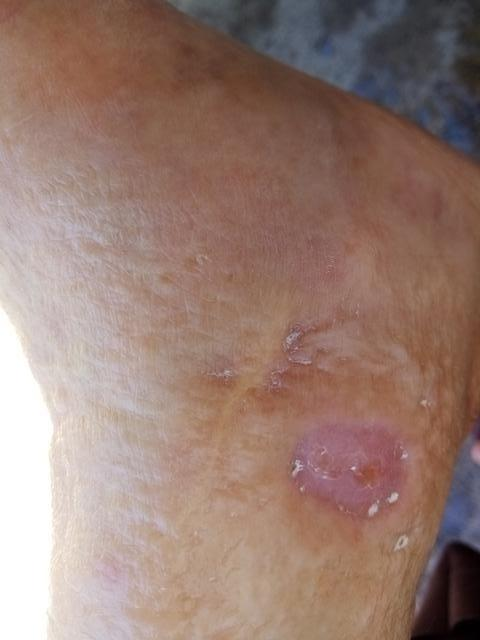wound: (284, 416, 411, 528)
